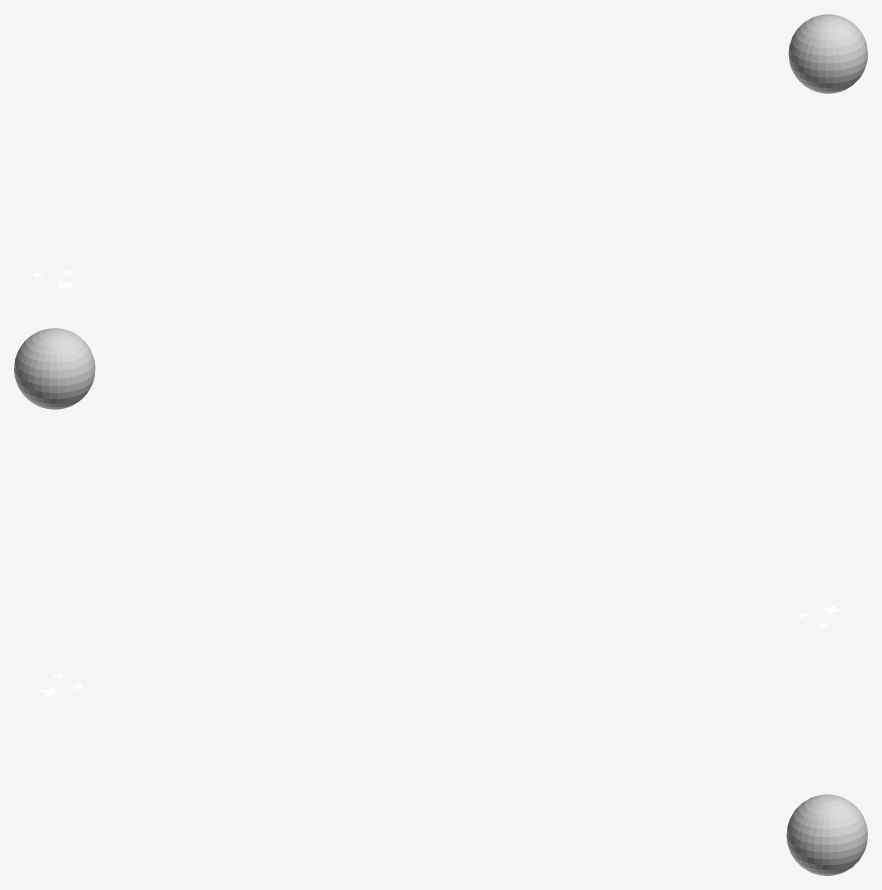
The model's file is キラキラ真打.glb.
3 renders of one model, top to bottom at view 1: azimuth 30°, elevation 25°; view 2: azimuth 150°, elevation 25°; view 3: azimuth 330°, elevation 25°, orthographic. The views are drawn at different scales.
Parts seen in each view (by area): view 1: Sphere; view 2: Sphere; view 3: Sphere.
Boxes of the visible parts, x1=… form: Sphere: x1=788, y1=14, x2=867, y2=93; Sphere: x1=14, y1=328, x2=95, y2=409; Sphere: x1=786, y1=794, x2=867, y2=875.
Bounding box in the file's own units: 23.74 × 2.32 × 2.53.
1 material, 1 textured.
